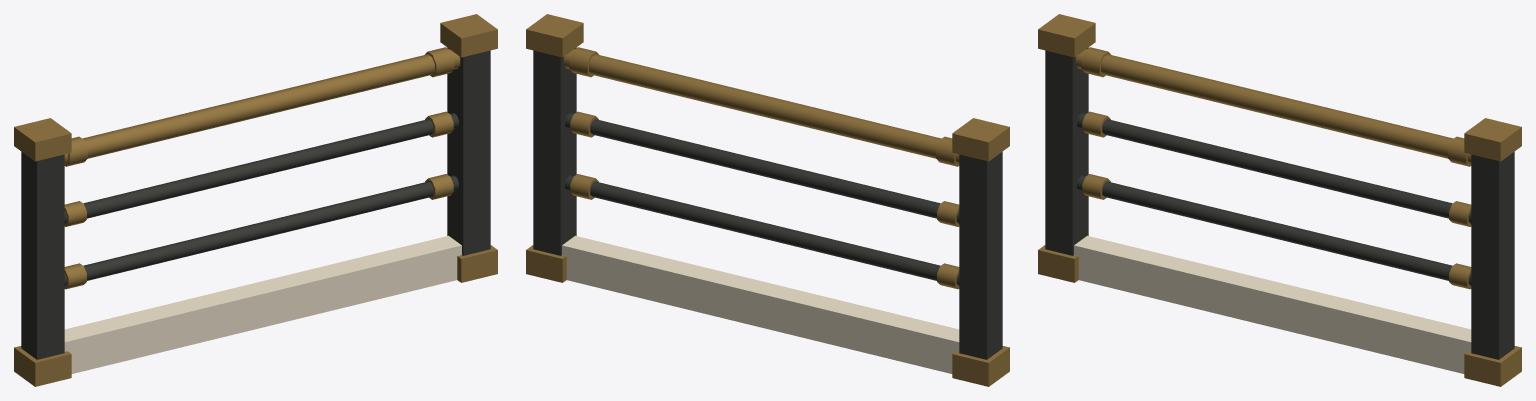
Rendered from railing.glb.
3 views of the same model, side by side, from view 1: azimuth 30°, elevation 25°; view 2: azimuth 150°, elevation 25°; view 3: azimuth 330°, elevation 25° (orthographic).
Parts seen in each view (by area): view 1: railing; view 2: railing; view 3: railing.
Part boxes in pixels (x1,y1,x2,y2): railing: (14,14,497,386); railing: (526,14,1009,386); railing: (1038,14,1521,386).
Size of the model in its own units: 2.02 by 1.02 by 0.16.
